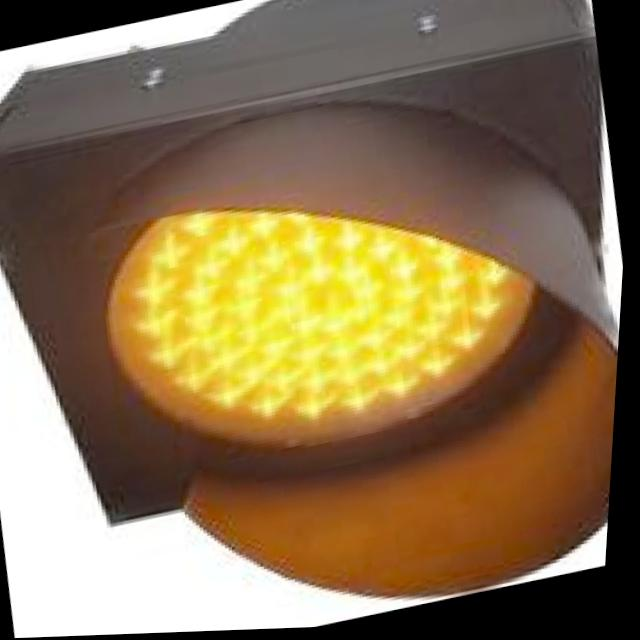yellow_light: (64, 34, 638, 637)
